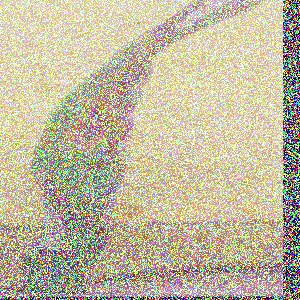Brown_Spot: (30, 176, 82, 280), (83, 174, 136, 240), (157, 0, 237, 43), (114, 51, 167, 111), (56, 100, 112, 149), (102, 118, 141, 171)
